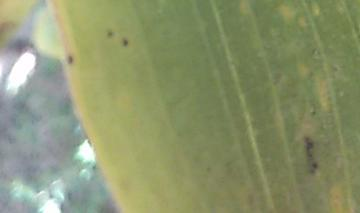tarspot: (303, 135, 314, 158), (66, 54, 75, 66), (120, 37, 130, 47), (105, 29, 115, 38), (310, 160, 319, 169), (307, 166, 317, 174), (205, 165, 213, 174), (308, 109, 316, 116)
